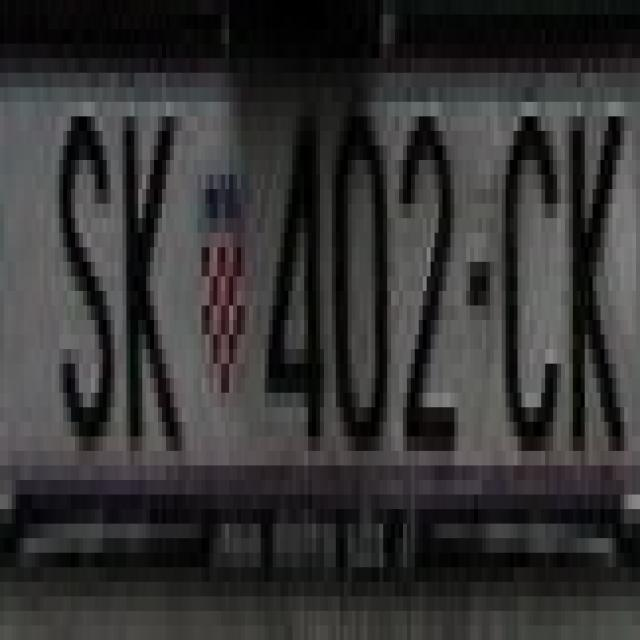0: (324, 73, 387, 451)
2: (395, 73, 458, 451)
4: (260, 102, 320, 466)
C: (498, 87, 561, 451)
K: (119, 87, 190, 480), (561, 88, 628, 466)
S: (52, 87, 115, 480)
